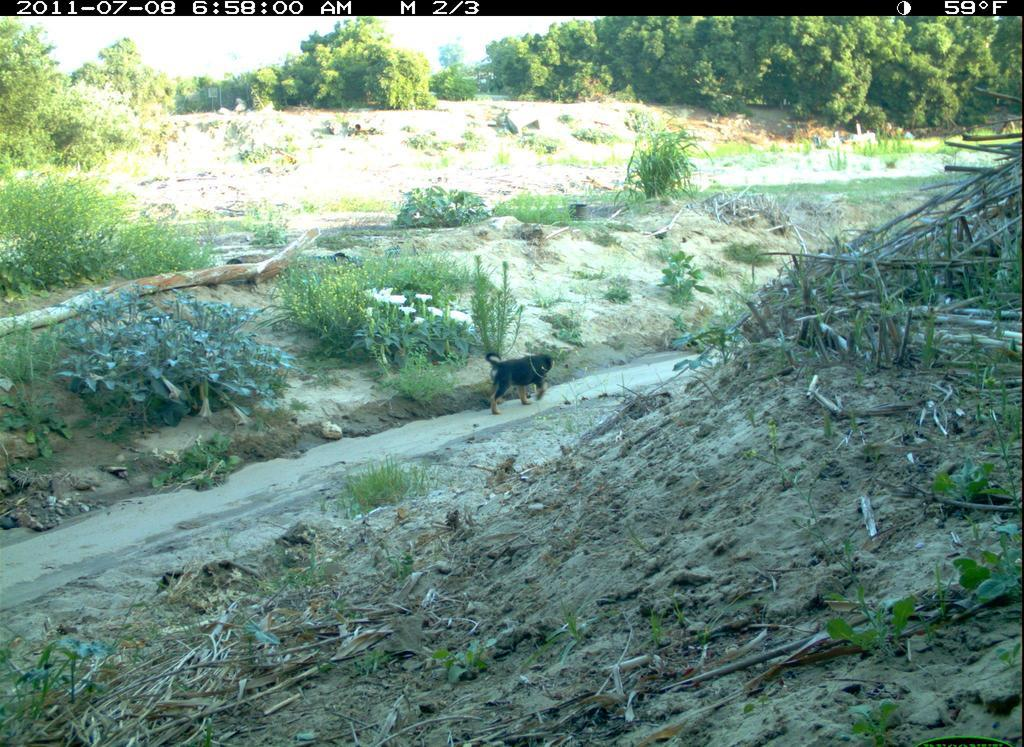dog: (487, 349, 556, 419)
